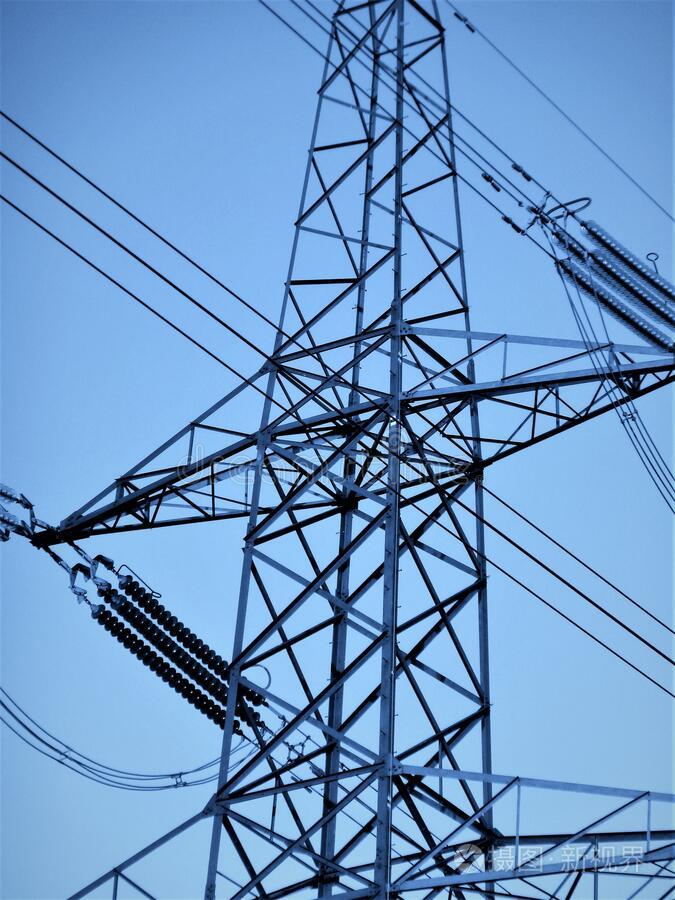insulator: (95, 572, 267, 730), (551, 220, 670, 358)
